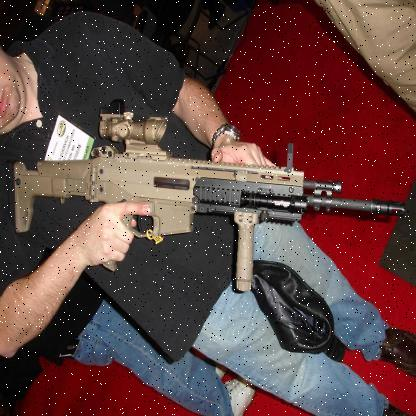rifle: (14, 110, 412, 305)
